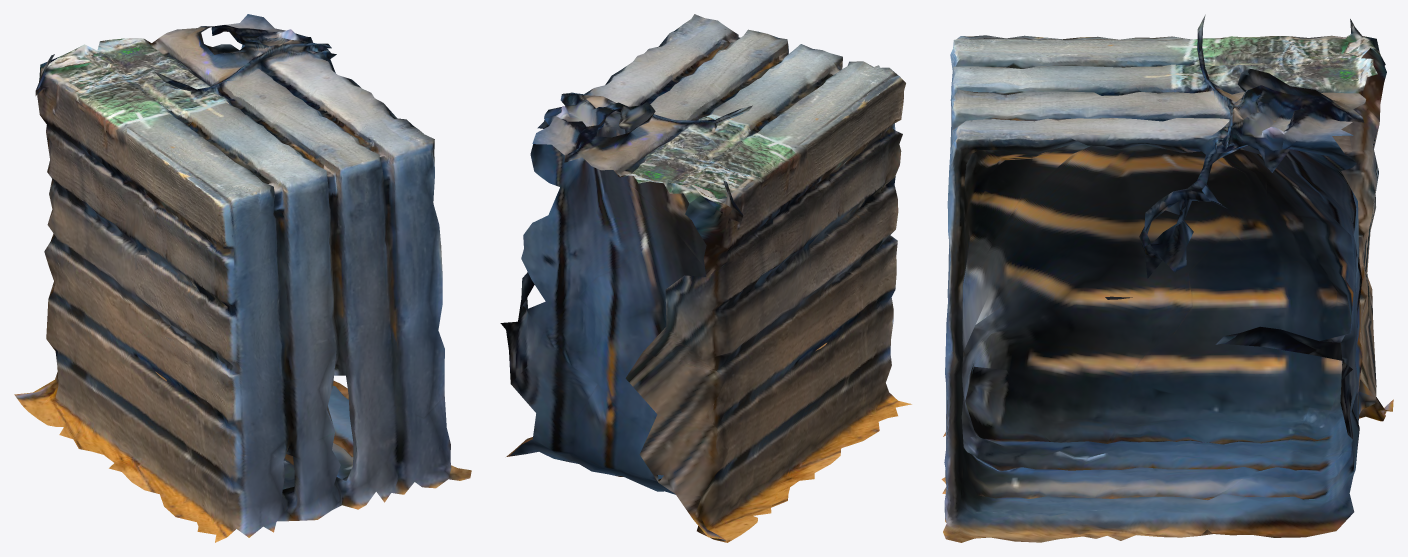
Rendered from Arduino.fbx.
The picture shows the model from 3 angles, left to right: view 1: azimuth 30°, elevation 25°; view 2: azimuth 150°, elevation 25°; view 3: azimuth 270°, elevation 25°; orthographic projection. The views are drawn at different scales.
Parts seen in each view (by area): view 1: arduino; view 2: arduino; view 3: arduino.
Part boxes in pixels (x1=…): arduino: x1=14, y1=14, x2=471, y2=542; arduino: x1=500, y1=14, x2=911, y2=542; arduino: x1=941, y1=14, x2=1393, y2=542.
Bounding box in the file's own units: 0.3906 × 0.5317 × 0.5139.
